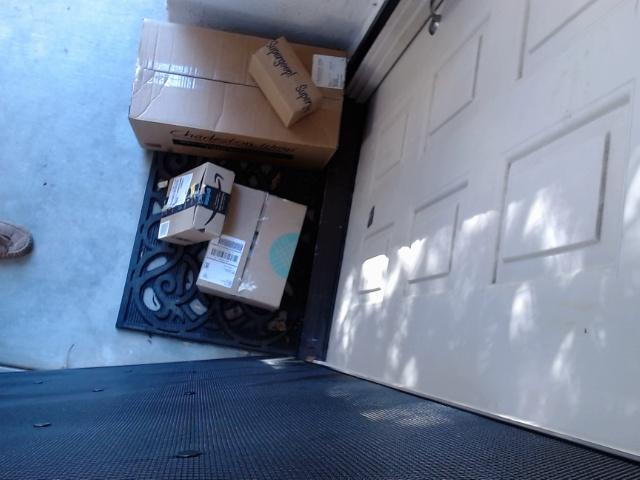box: (124, 0, 375, 185), (192, 181, 331, 328), (145, 154, 263, 259), (236, 28, 332, 128)
